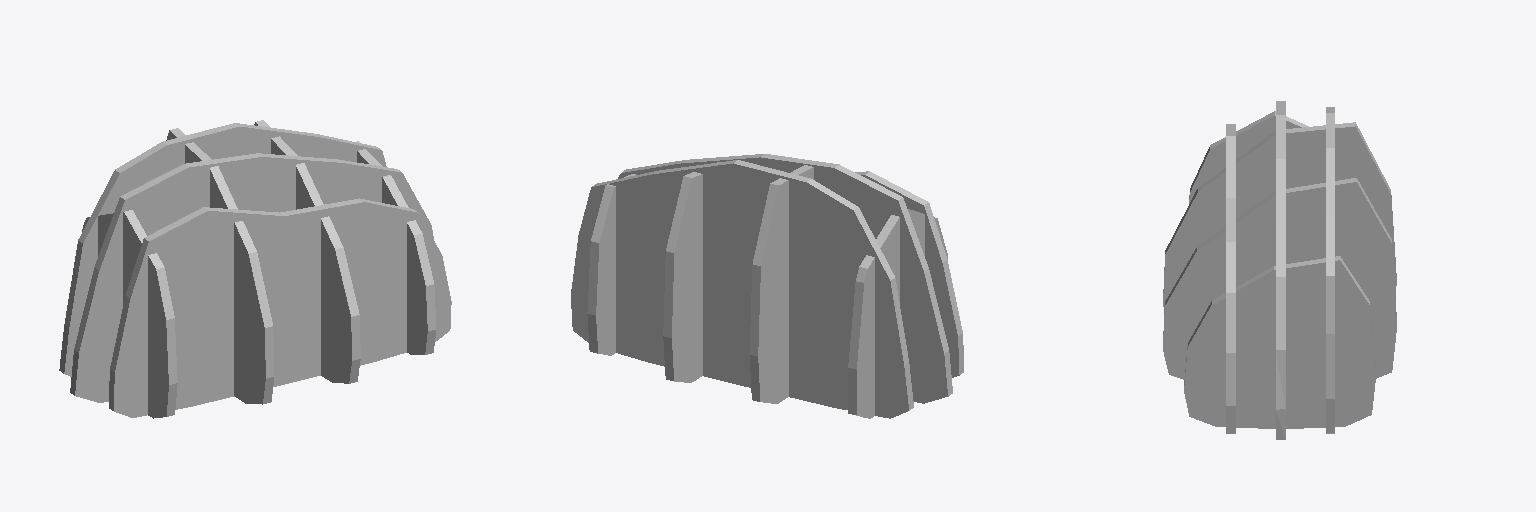
The model's file is slot_rock2.obj.
The picture shows the model from 3 angles: view 1: azimuth 30°, elevation 25°; view 2: azimuth 150°, elevation 25°; view 3: azimuth 270°, elevation 25°; orthographic projection.
Parts seen in each view (by area): view 1: rock.001; view 2: rock.001; view 3: rock.001.
Part boxes in pixels (x1,y1,x2,y2): rock.001: (59, 120, 451, 418); rock.001: (571, 154, 963, 418); rock.001: (1163, 101, 1396, 439).
Size of the model in its own units: 2.55 by 1.48 by 1.41.